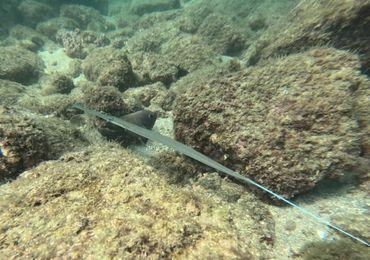Fistularia commersonii: (60, 88, 370, 259)
